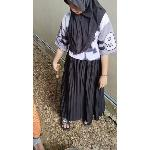Golok: (49, 66, 61, 108)
